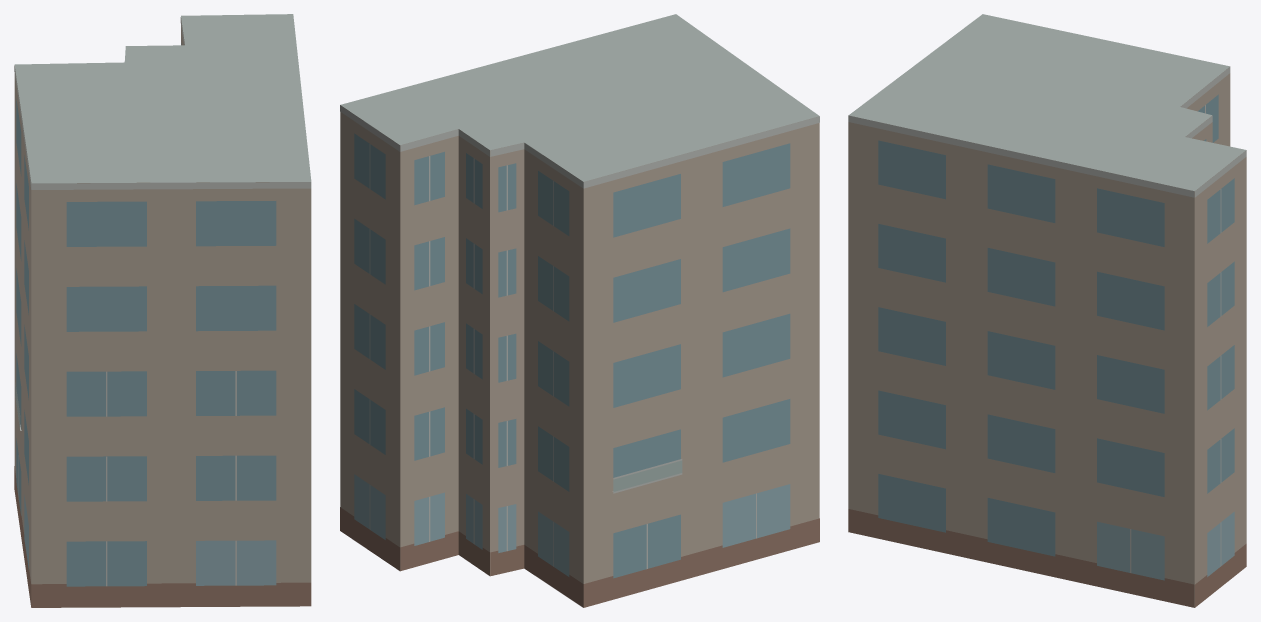
The model's file is survey-upis-32879136.glb.
The picture shows the model from 3 angles, left to right: view 1: azimuth 30°, elevation 25°; view 2: azimuth 150°, elevation 25°; view 3: azimuth 270°, elevation 25°; orthographic projection. The views are drawn at different scales.
Visible parts, largest first — view 1: survey-upis-32879136.tmp; view 2: survey-upis-32879136.tmp; view 3: survey-upis-32879136.tmp.
Boxes of the visible parts, x1,y1,x2,y2 form: survey-upis-32879136.tmp: (14,14,311,607); survey-upis-32879136.tmp: (340,14,819,607); survey-upis-32879136.tmp: (848,14,1246,607).
Bounding box in the file's own units: 14.15 × 15.5 × 13.43.
